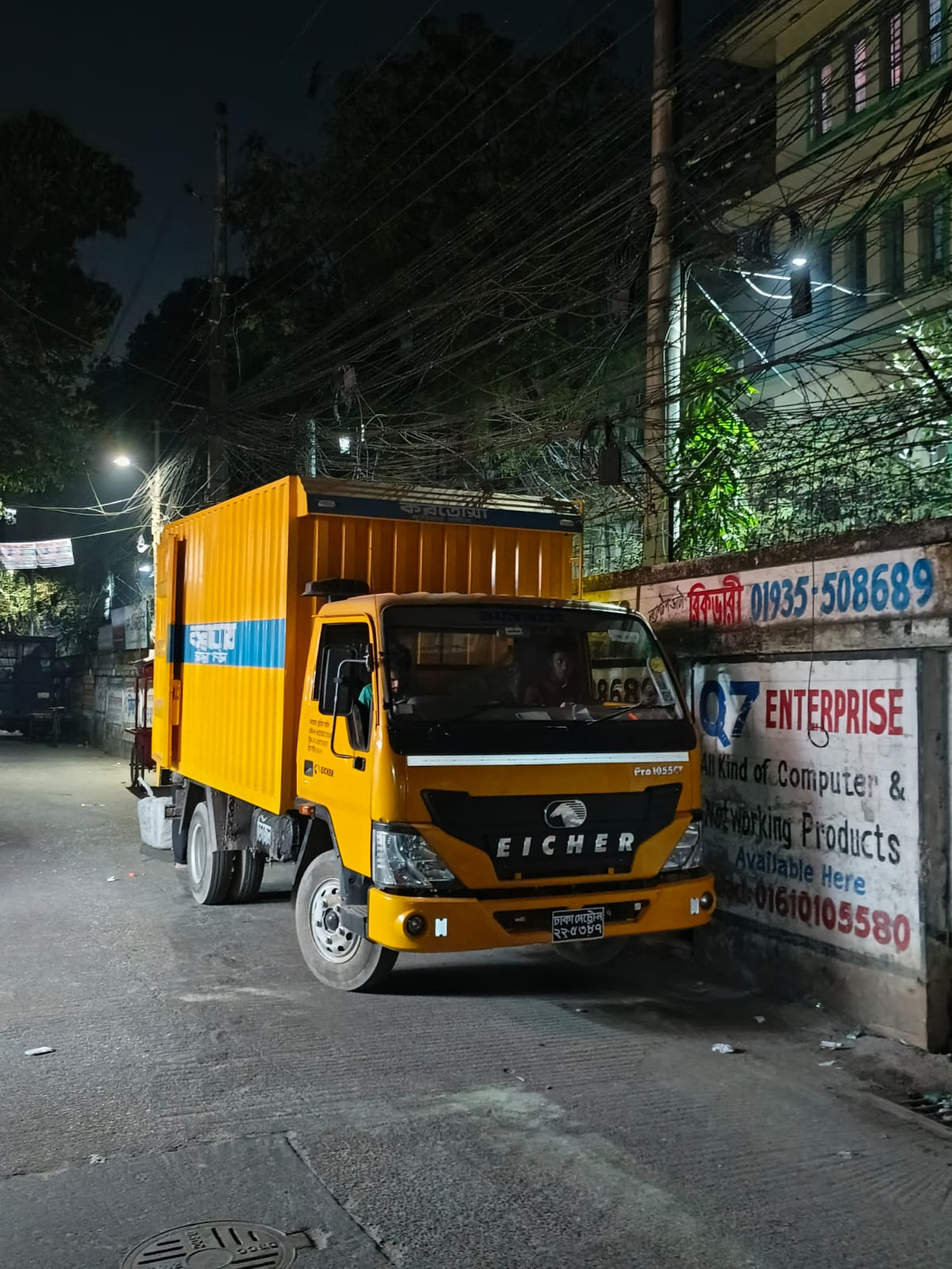Truck: (106, 474, 838, 1079)
